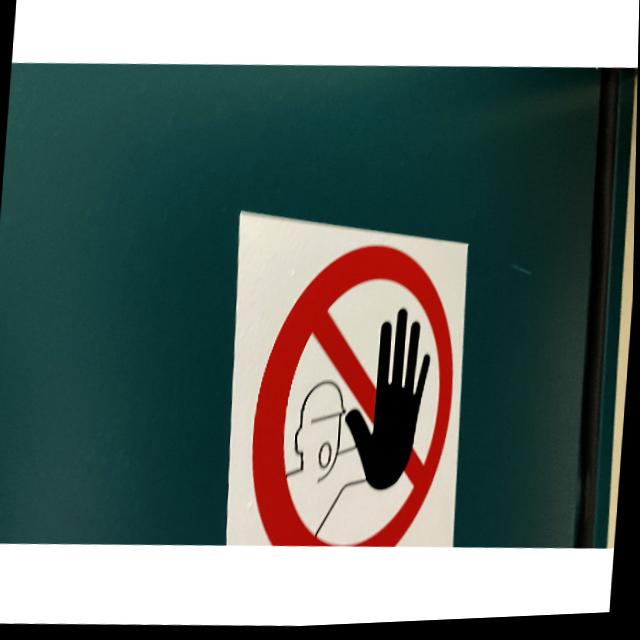No access for unauthorized persons: (247, 239, 464, 559)
